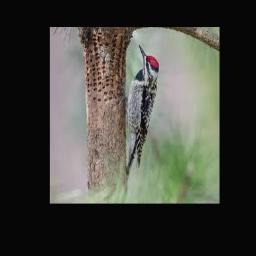Woodpecker: (125, 43, 159, 178)
